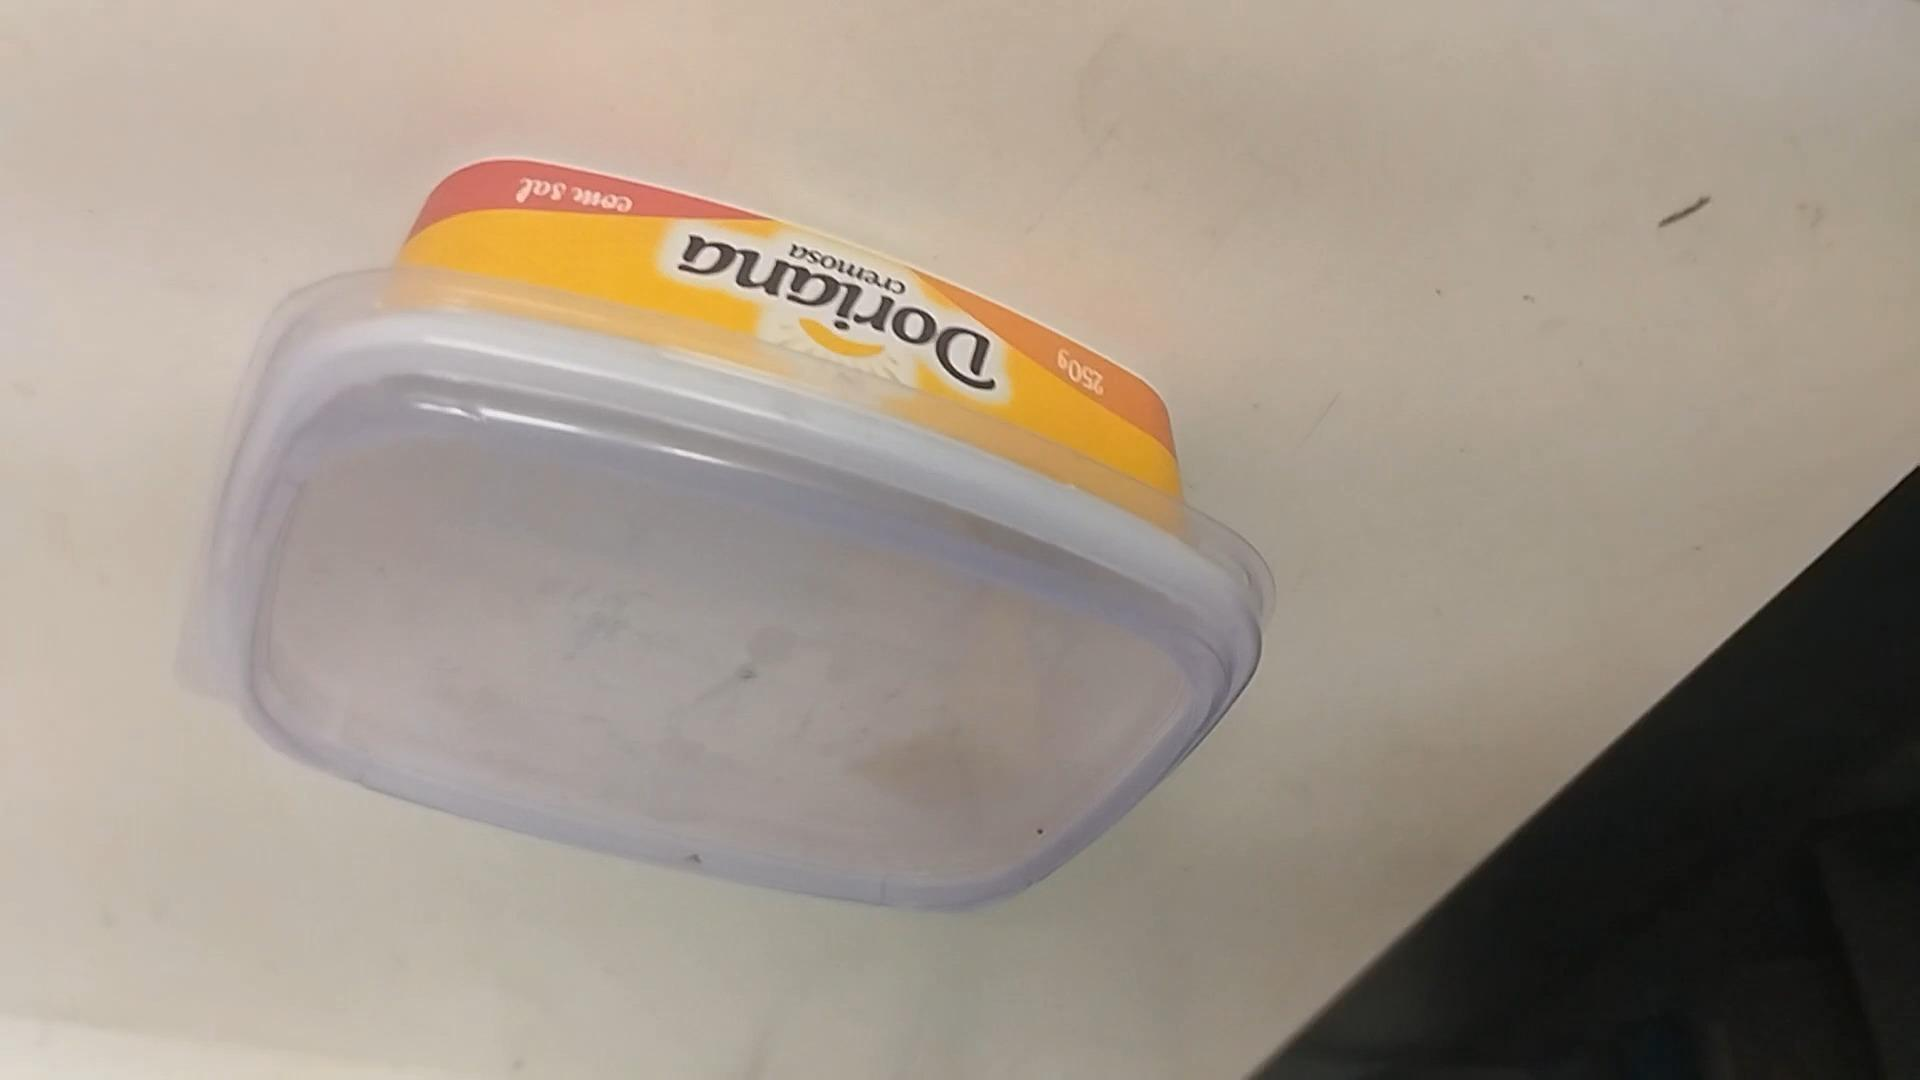butter: (181, 166, 1269, 919)
